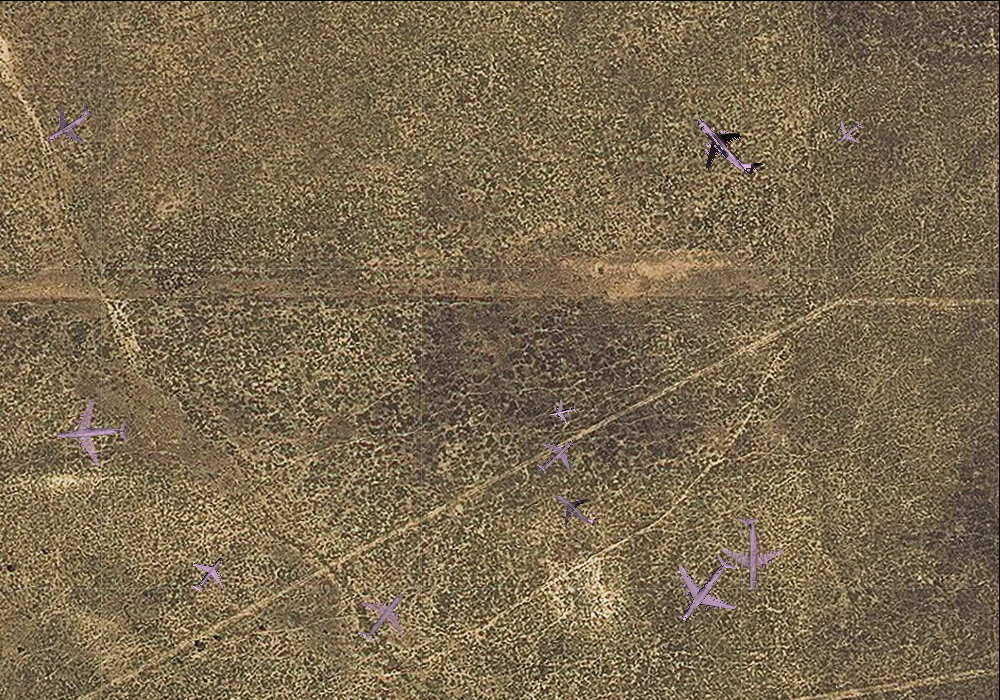plane: (654, 538, 757, 642), (676, 94, 777, 197), (343, 576, 422, 657), (52, 395, 130, 470), (715, 515, 786, 591), (33, 89, 104, 159), (543, 476, 609, 542), (526, 424, 587, 486), (180, 546, 236, 602), (828, 111, 871, 154), (546, 395, 579, 427)
